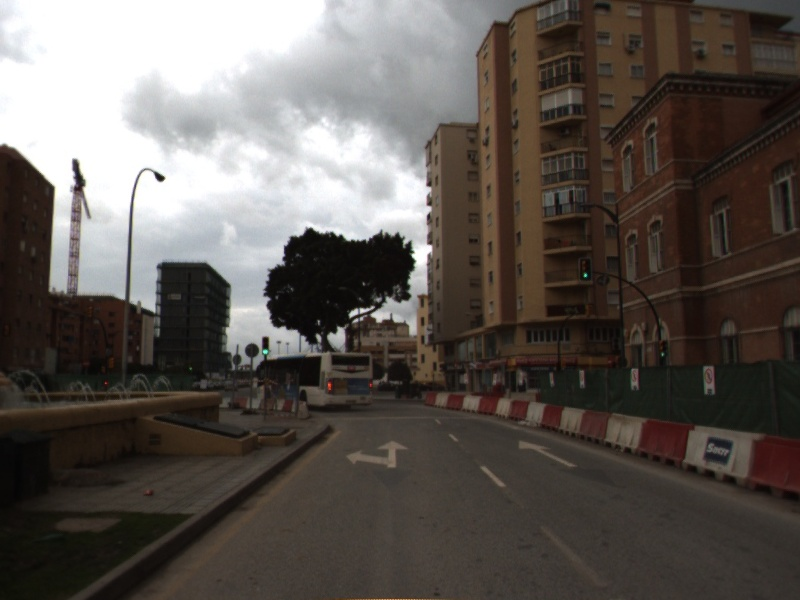STRAIGHT: (516, 439, 581, 469)
STRAIGHT_LEFT: (344, 439, 410, 469)
